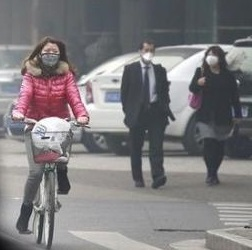person: (12, 35, 91, 245), (121, 39, 175, 189), (188, 43, 239, 187)
